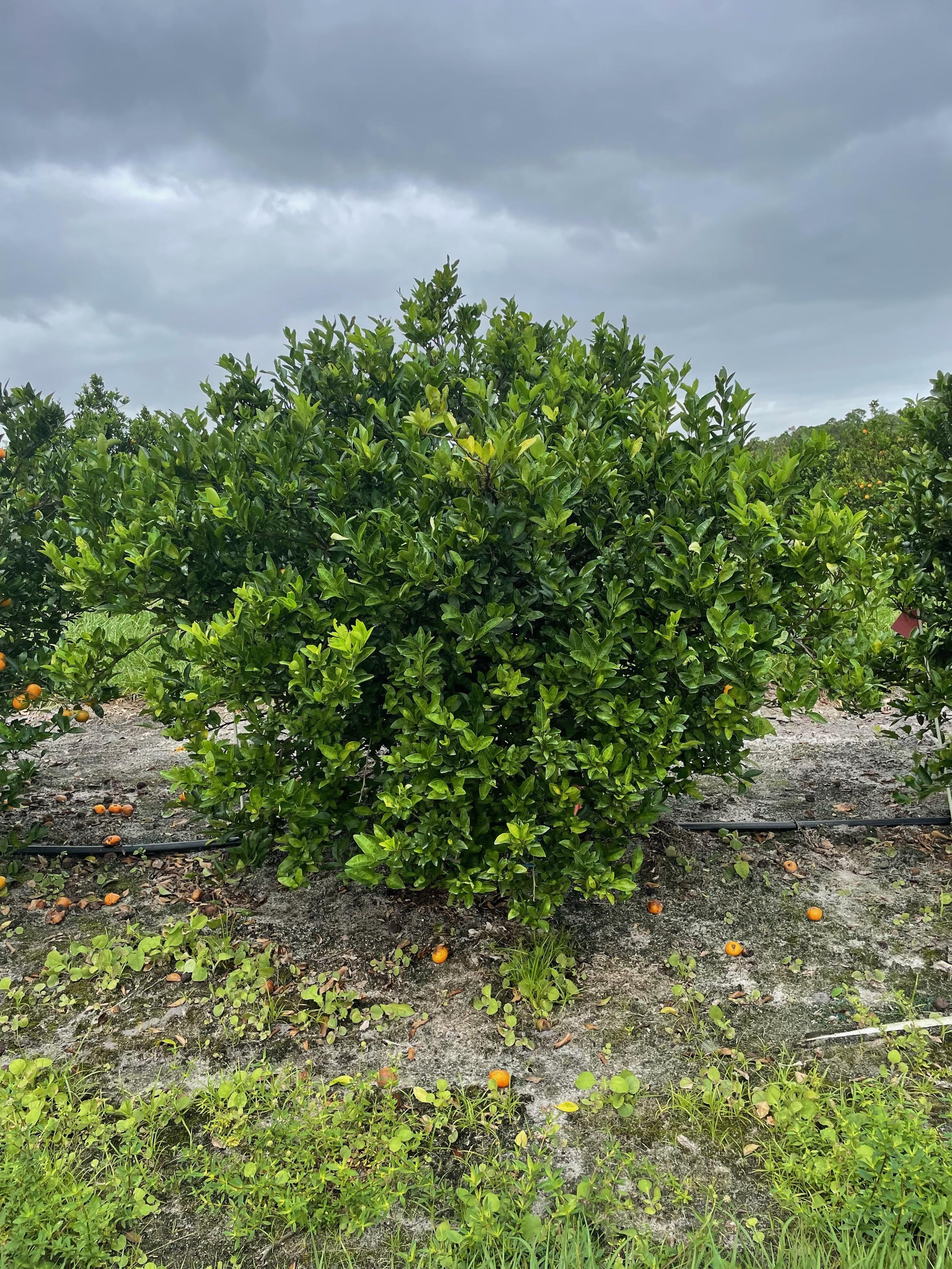fruit_on_ground: (10, 693, 31, 711), (24, 682, 43, 701), (57, 704, 75, 723), (1, 591, 17, 611), (74, 708, 91, 725), (0, 647, 10, 673), (0, 446, 8, 460)
fruit_on_tree: (487, 1067, 513, 1090), (429, 943, 450, 965), (723, 938, 744, 957), (646, 897, 665, 916), (805, 903, 824, 921), (781, 857, 799, 874), (103, 891, 120, 906), (56, 894, 72, 908), (177, 788, 191, 802), (107, 801, 121, 814), (105, 833, 121, 844), (122, 802, 135, 815), (93, 802, 107, 814), (0, 873, 9, 890), (54, 792, 67, 803)
